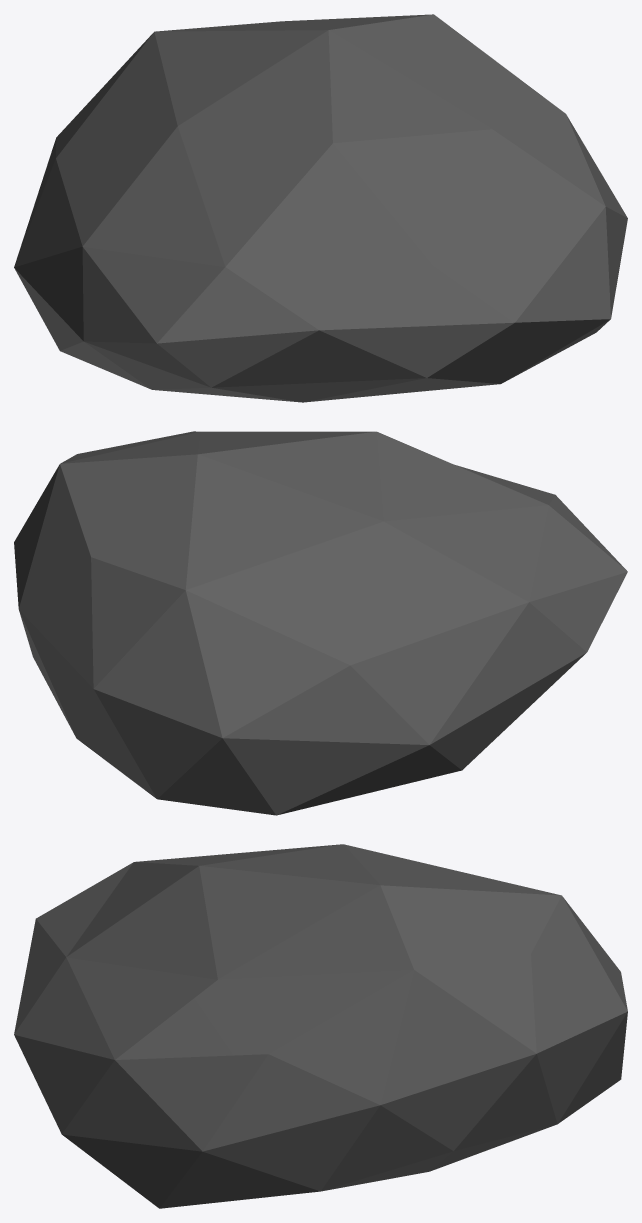
The model's file is rock1.fbx.
3 renders of one model, top to bottom at view 1: azimuth 30°, elevation 25°; view 2: azimuth 150°, elevation 25°; view 3: azimuth 270°, elevation 25°, orthographic. The views are drawn at different scales.
Parts seen in each view (by area): view 1: RockBigC_1.002; view 2: RockBigC_1.002; view 3: RockBigC_1.002.
Part boxes in pixels (x1,y1,x2,y2): RockBigC_1.002: (14, 14, 627, 402); RockBigC_1.002: (14, 431, 627, 815); RockBigC_1.002: (14, 844, 627, 1208).
Size of the model in its own units: 347 by 172 by 359.
